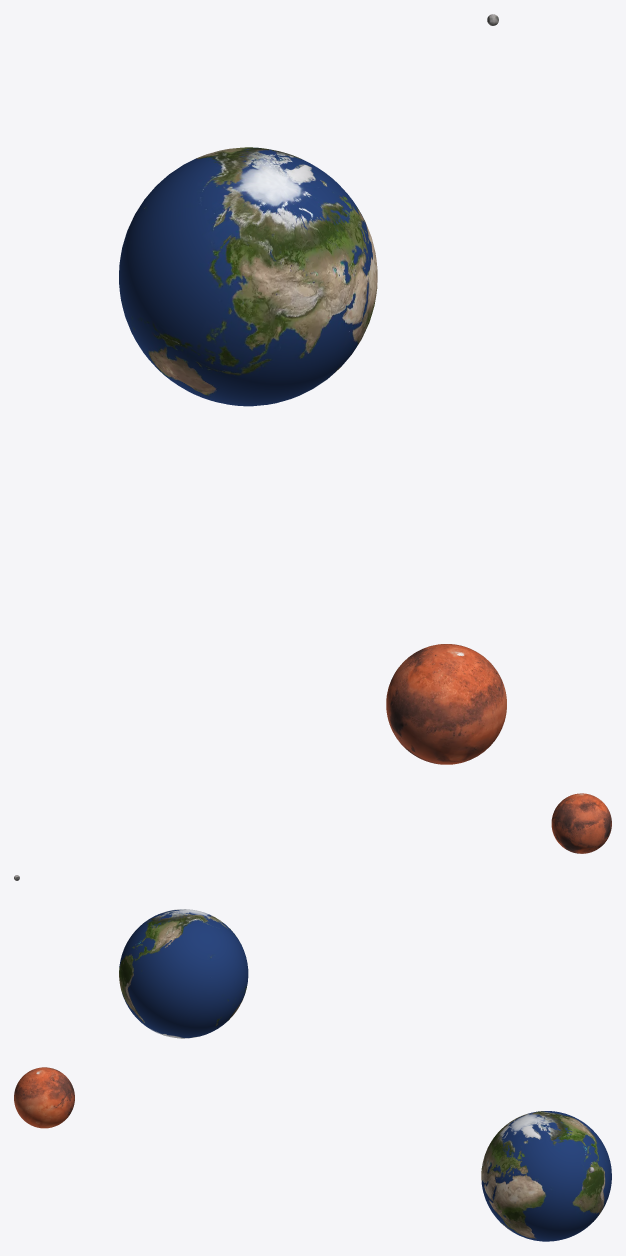
File: Aadhyap1-transformed.glb
The picture shows the model from 3 angles, top to bottom: view 1: azimuth 30°, elevation 25°; view 2: azimuth 150°, elevation 25°; view 3: azimuth 270°, elevation 25°; orthographic projection. The views are drawn at different scales.
Visible parts, largest first — view 1: Earth, Mars; view 2: Earth, Mars; view 3: Earth, Mars.
Part boxes in pixels (x1,y1,x2,y2): Earth: (119,147,377,406); Mars: (386,644,506,764); Earth: (119,909,248,1038); Mars: (551,793,611,853); Earth: (481,1111,611,1241); Mars: (14,1067,74,1128).
Size of the model in its own units: 74.39 by 30.43 by 118.
Materials: 3 (3 with a texture image).
